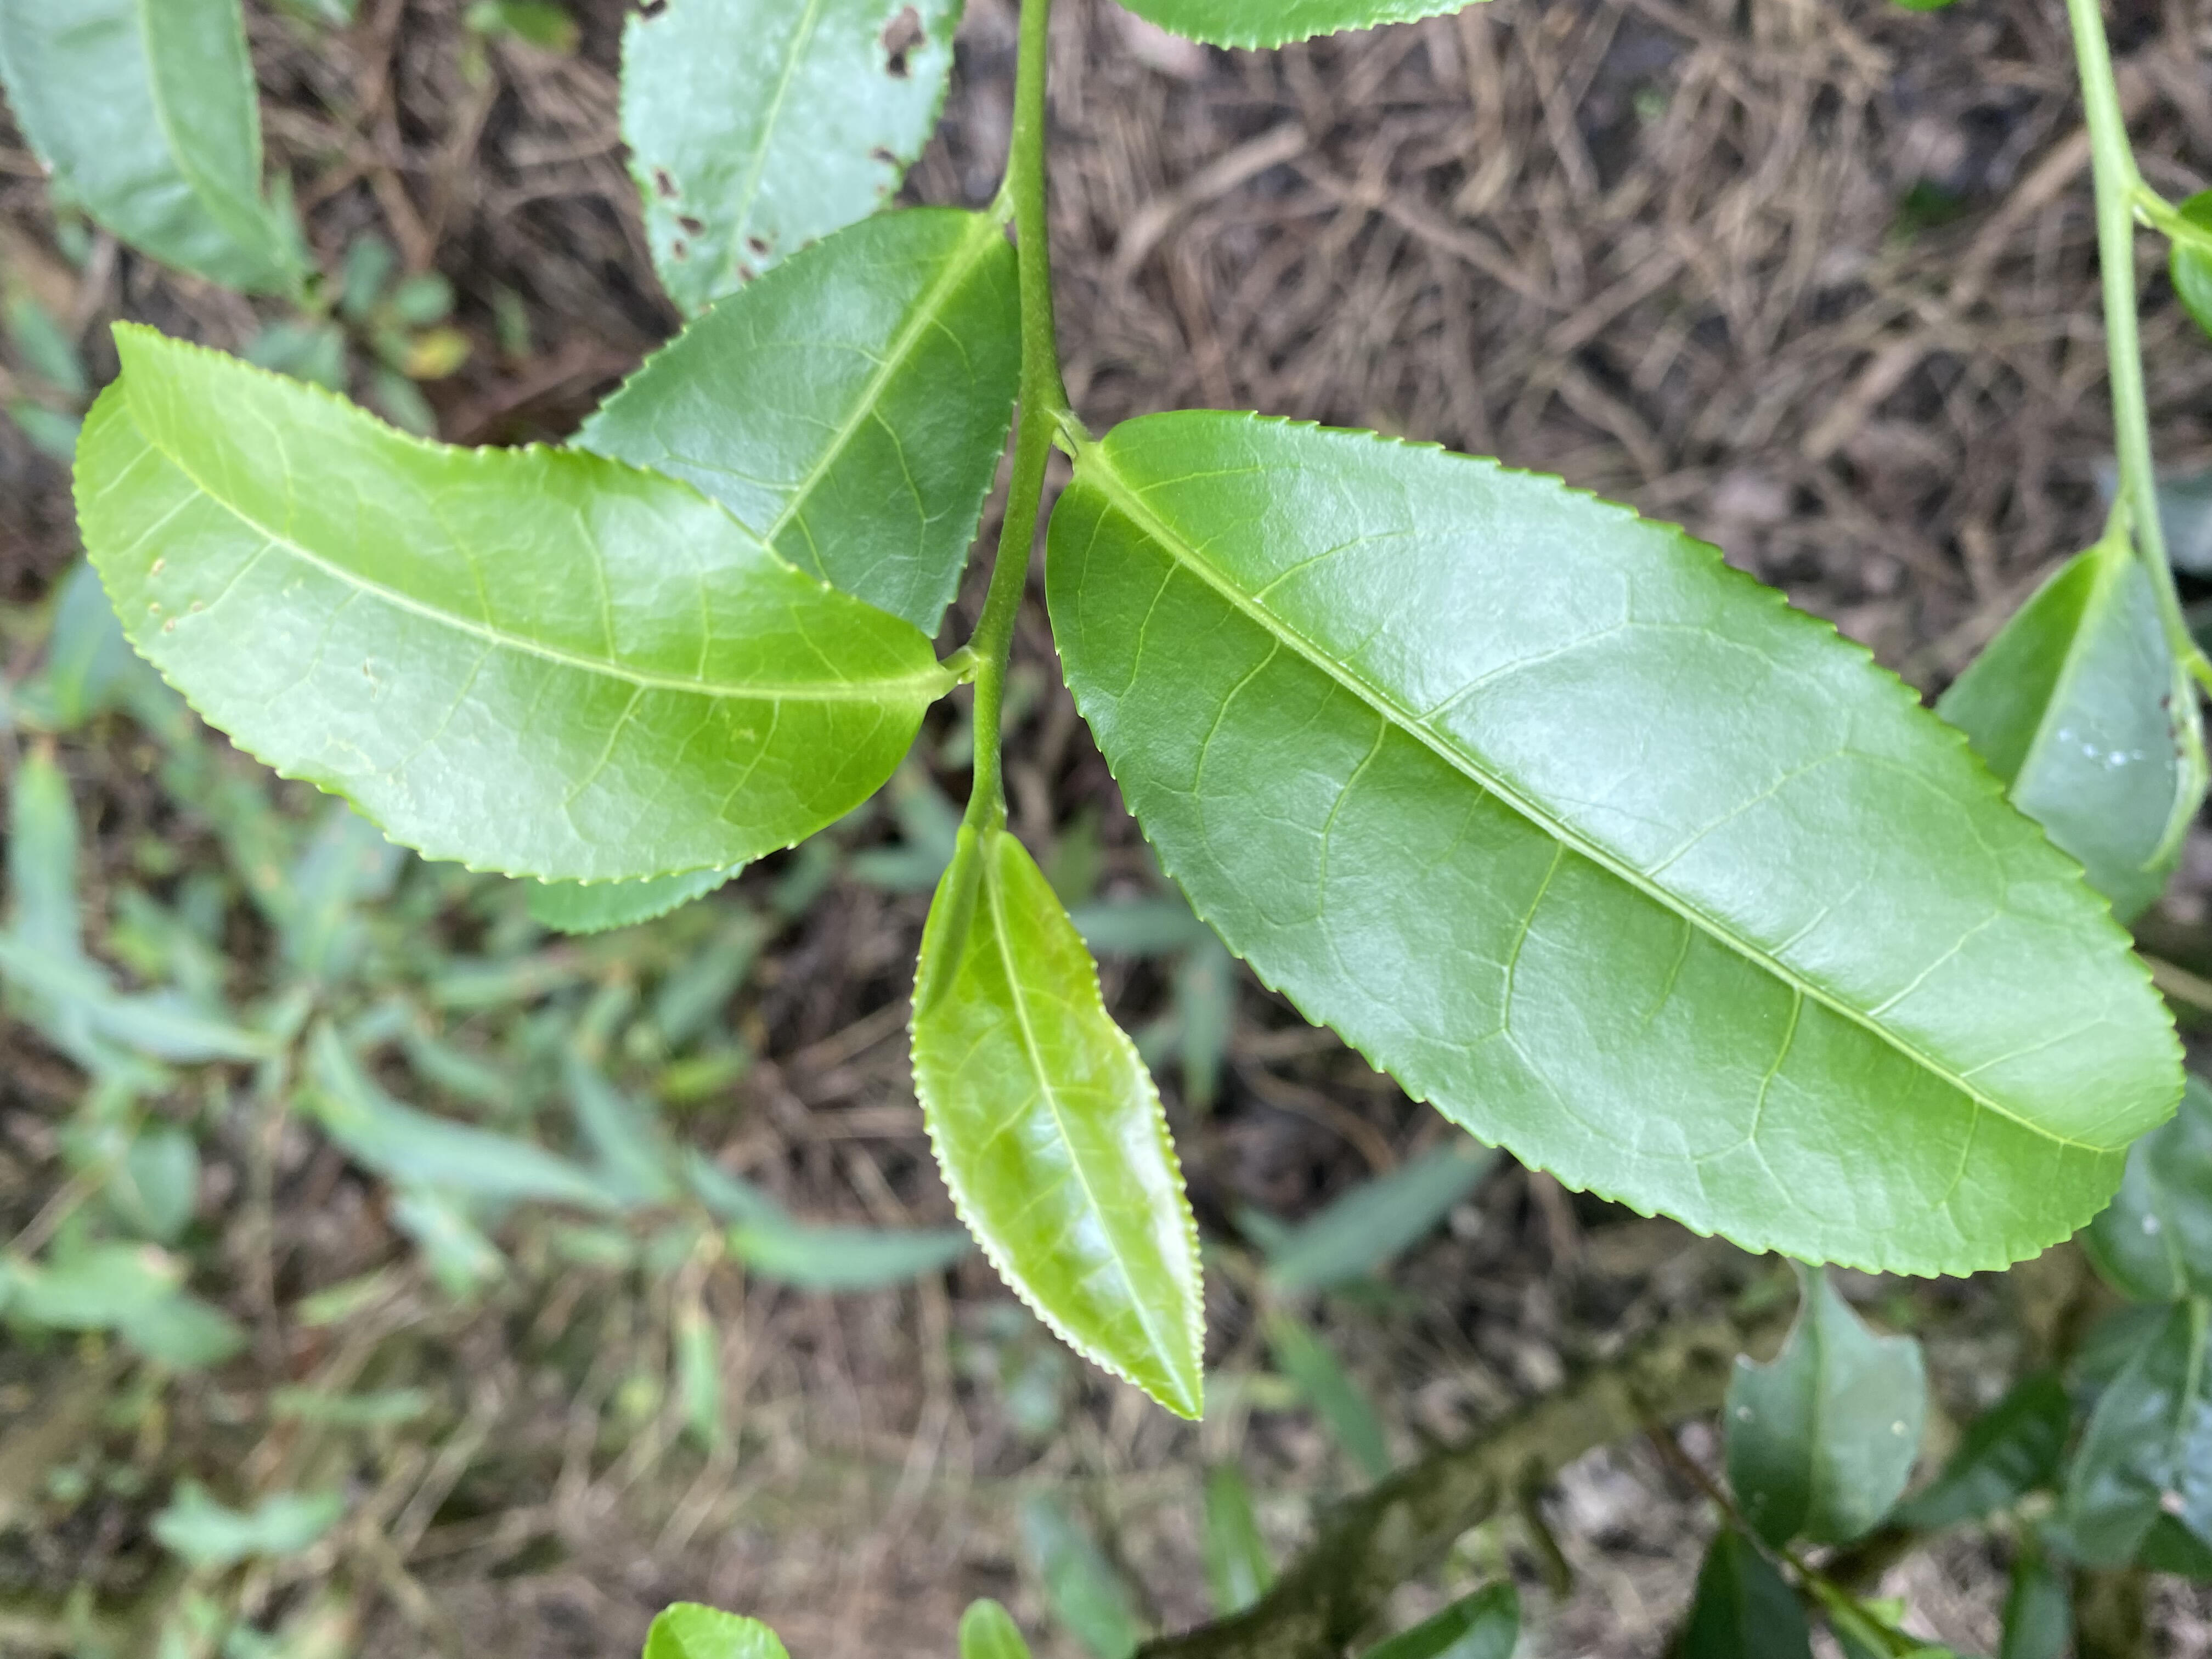chihuo_high: (613, 2, 967, 321)
healthy: (1042, 406, 2193, 1284), (68, 317, 937, 889), (524, 204, 1019, 932), (906, 833, 1212, 1424)
